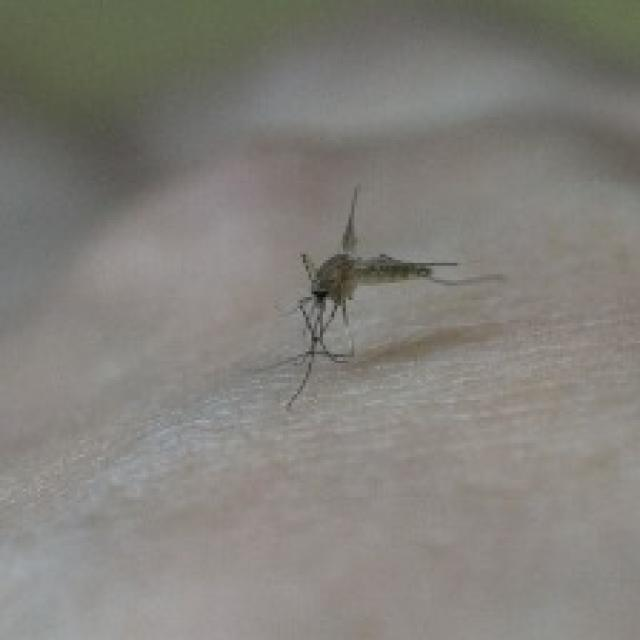culex: (260, 180, 503, 409)
